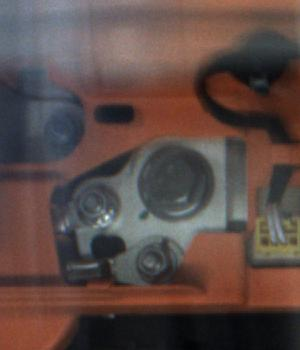nut_b: (134, 146, 219, 222)
